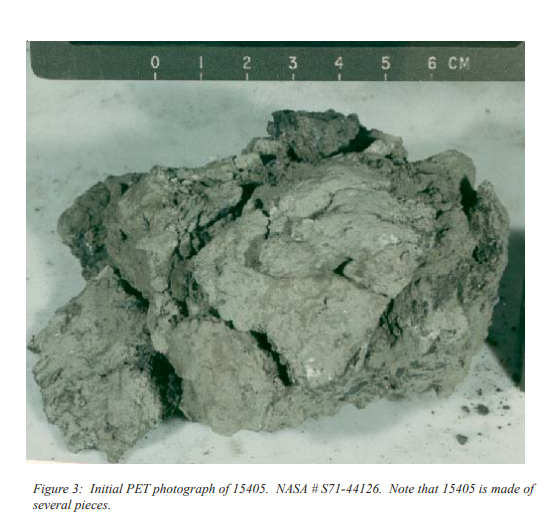Breccia: (62, 143, 511, 436), (275, 106, 506, 374), (174, 203, 426, 379)
